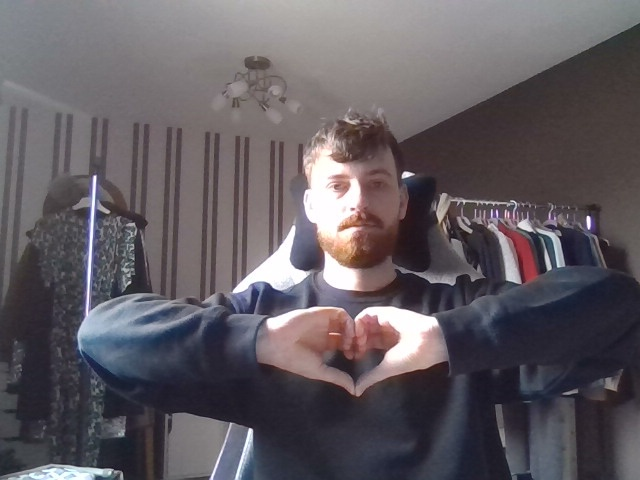Love: (254, 280, 450, 408)
